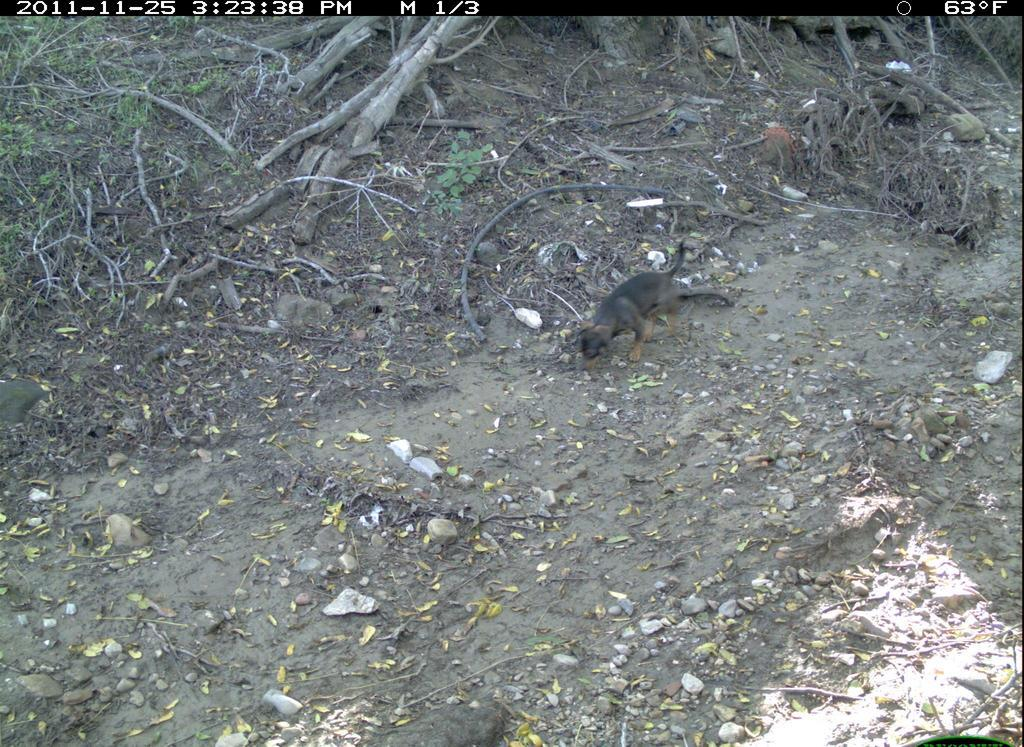dog: (560, 230, 720, 377)
